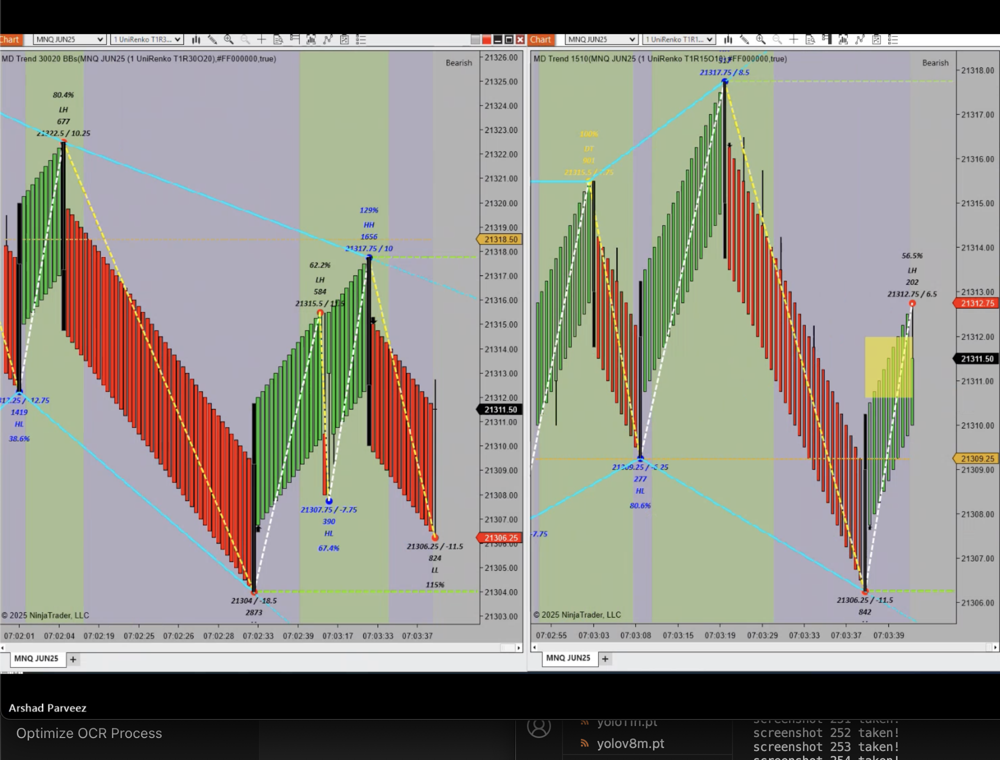HH: (359, 216, 381, 235)
HL: (317, 522, 347, 547), (628, 479, 659, 502), (8, 415, 34, 436)
LH: (903, 262, 929, 285), (54, 102, 77, 120), (311, 271, 334, 289)
LL: (423, 559, 447, 578)
